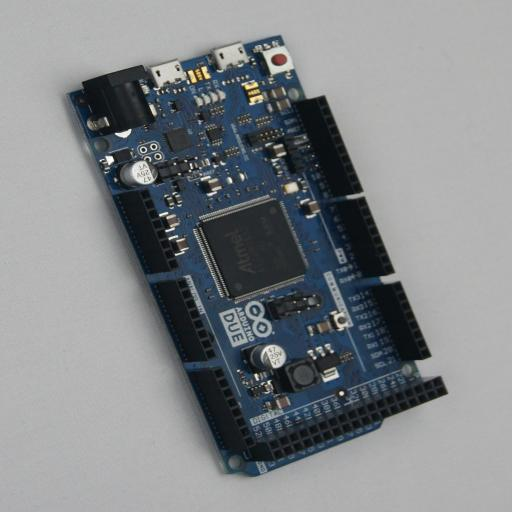Arduino Due: (66, 35, 448, 477)
